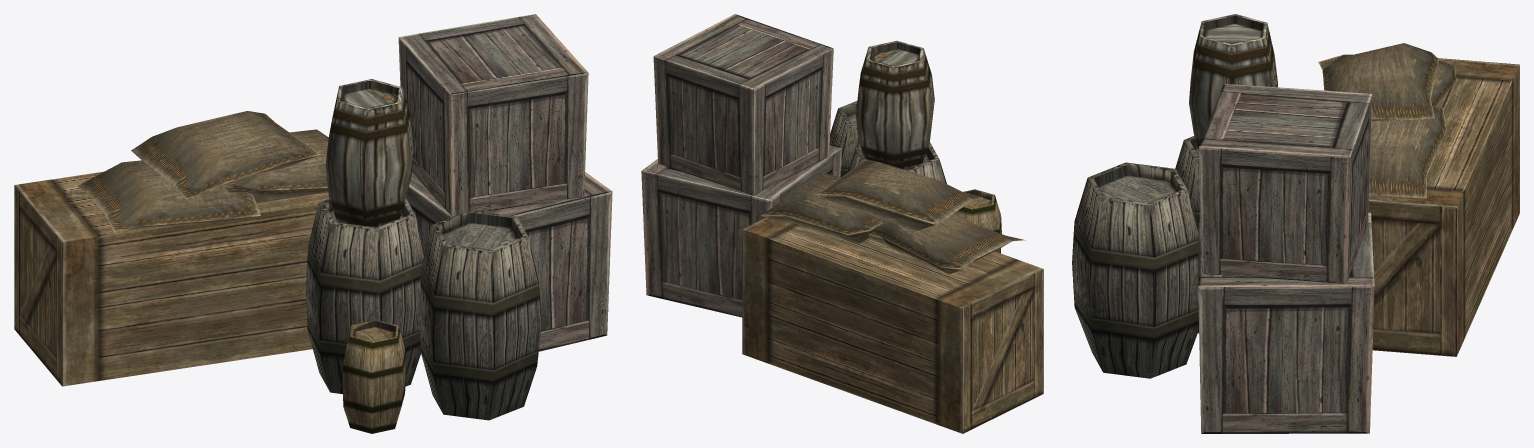
File: prop_group_C.fbx
3 renders of one model, left to right at view 1: azimuth 30°, elevation 25°; view 2: azimuth 150°, elevation 25°; view 3: azimuth 270°, elevation 25°, orthographic. The views are drawn at different scales.
Visible parts, largest first — view 1: crate_1_high, polySurface1.001, barrel_high1, barrel_high, polySurface1, barrel_high2, top.001, SackMesh3, SackMesh2, barrel_high3, SackMesh1, top; view 2: crate_1_high, polySurface1.001, polySurface1, barrel_high2, top.001, SackMesh3, SackMesh2, SackMesh1, top, barrel_high1, barrel_high3, barrel_high; view 3: crate_1_high, polySurface1, barrel_high1, polySurface1.001, top.001, barrel_high2, SackMesh3, SackMesh1, top, barrel_high, SackMesh2.
Boxes of the visible parts, bbox=[...] form: crate_1_high: bbox=[14, 171, 329, 386]; polySurface1.001: bbox=[398, 37, 588, 216]; barrel_high1: bbox=[419, 210, 541, 420]; barrel_high: bbox=[305, 198, 424, 393]; polySurface1: bbox=[406, 186, 612, 351]; barrel_high2: bbox=[325, 79, 414, 227]; top.001: bbox=[399, 14, 588, 94]; SackMesh3: bbox=[131, 111, 320, 199]; SackMesh2: bbox=[77, 160, 260, 231]; barrel_high3: bbox=[342, 319, 406, 433]; SackMesh1: bbox=[222, 129, 328, 203]; top: bbox=[409, 172, 611, 216]; crate_1_high: bbox=[742, 217, 1043, 433]; polySurface1.001: bbox=[653, 48, 833, 195]; polySurface1: bbox=[641, 148, 842, 317]; barrel_high2: bbox=[855, 41, 934, 169]; top.001: bbox=[654, 14, 833, 89]; SackMesh3: bbox=[817, 159, 982, 230]; SackMesh2: bbox=[868, 213, 1025, 274]; SackMesh1: bbox=[761, 174, 883, 243]; top: bbox=[642, 144, 841, 200]; barrel_high1: bbox=[829, 101, 860, 177]; barrel_high3: bbox=[954, 189, 1001, 253]; barrel_high: bbox=[847, 142, 946, 183]; crate_1_high: bbox=[1368, 58, 1519, 356]; polySurface1: bbox=[1198, 286, 1374, 433]; barrel_high1: bbox=[1072, 162, 1198, 378]; polySurface1.001: bbox=[1199, 95, 1372, 283]; top.001: bbox=[1199, 83, 1372, 157]; barrel_high2: bbox=[1189, 14, 1277, 149]; SackMesh3: bbox=[1318, 43, 1438, 120]; SackMesh1: bbox=[1369, 107, 1446, 198]; top: bbox=[1198, 212, 1374, 287]; barrel_high: bbox=[1175, 136, 1200, 333]; SackMesh2: bbox=[1431, 60, 1456, 106].
Bounding box in the file's own units: 1848 × 1094 × 1496.
Materials: 1 (1 with a texture image).
